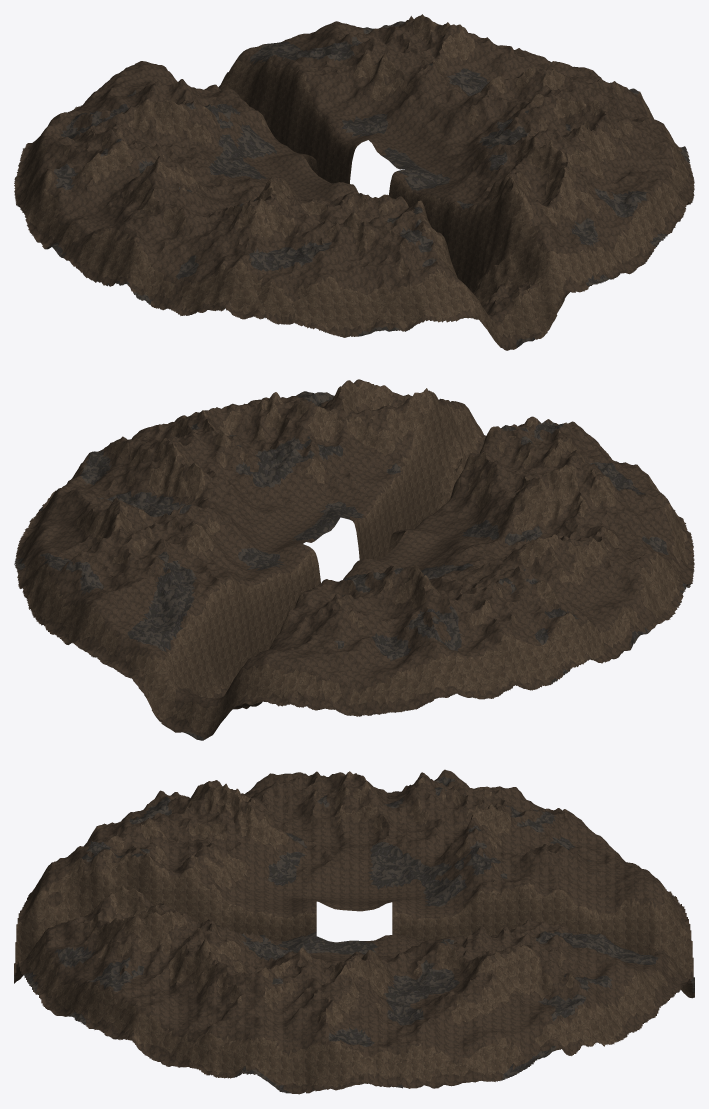
The model's file is backdrop_mountain_ring_v5_dead_near.glb.
3 views of the same model, one above another, from view 1: azimuth 30°, elevation 25°; view 2: azimuth 150°, elevation 25°; view 3: azimuth 270°, elevation 25° (orthographic).
Parts seen in each view (by area): view 1: backdrop_v5_near; view 2: backdrop_v5_near; view 3: backdrop_v5_near.
Part boxes in pixels (x1,y1,x2,y2): backdrop_v5_near: (14,14,694,350); backdrop_v5_near: (14,379,694,740); backdrop_v5_near: (14,769,694,1094).
Bounding box in the file's own units: 574 × 168 × 574.
Materials: 3 (3 with a texture image).
